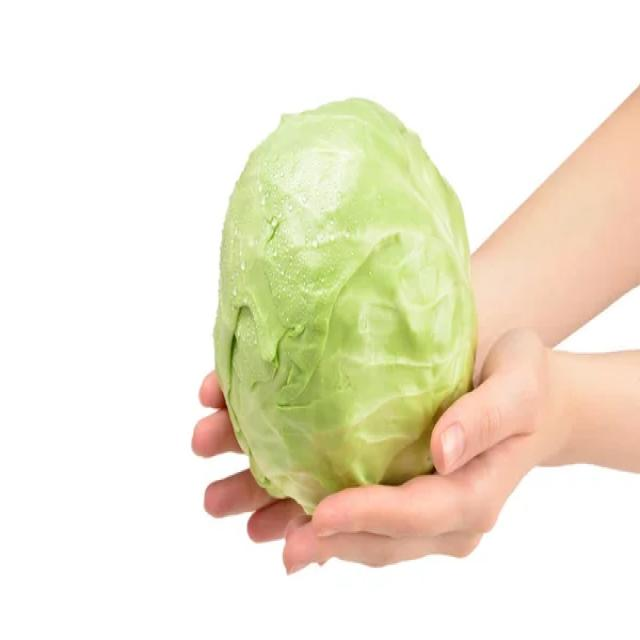cabbage: (212, 93, 480, 525)
